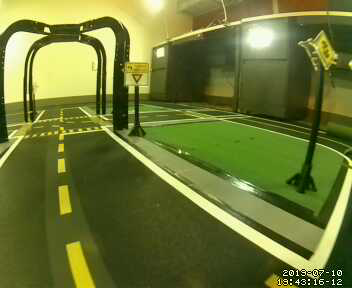Turn Yield: (123, 60, 150, 86)
